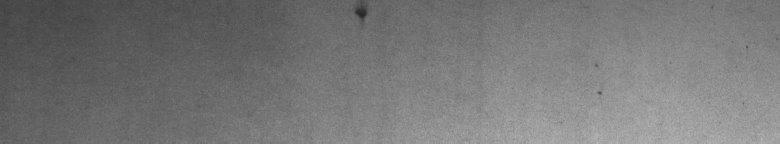fi: (349, 4, 375, 28)
